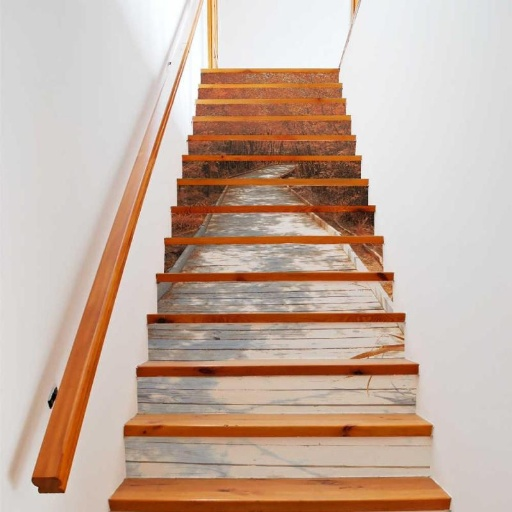Stairs: (110, 68, 451, 512)
